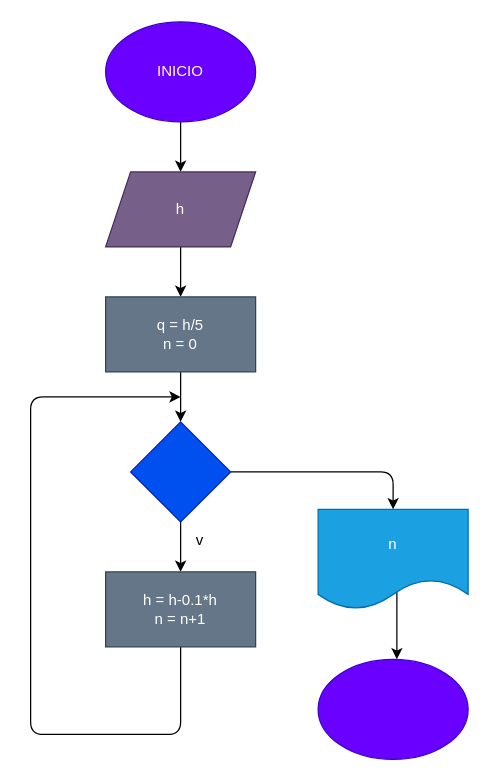
Image size: 490x781. Some labels were removed from this diagram. Here are the shapes that lost their labels. From the top down, the box of each, then its label:
(129, 421, 231, 522): h>=q
(317, 658, 468, 759): FIN
